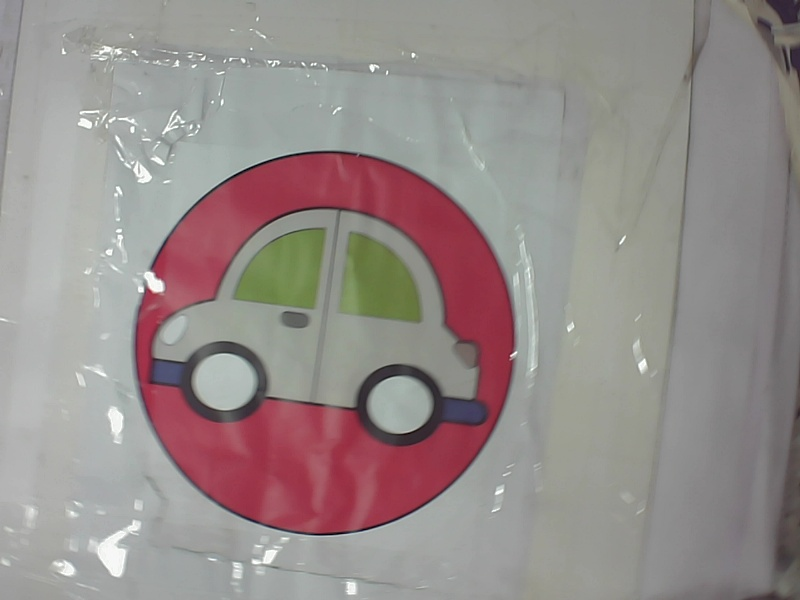areaC: (127, 156, 547, 556)
